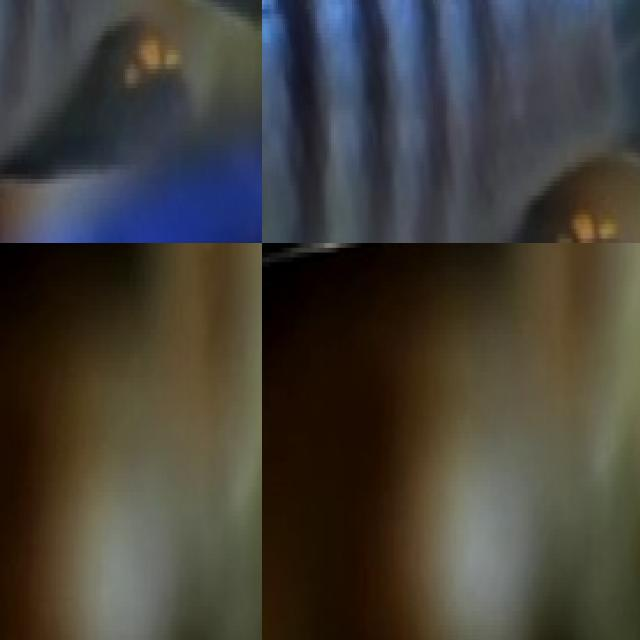fish: (262, 0, 640, 243), (0, 0, 262, 243)
